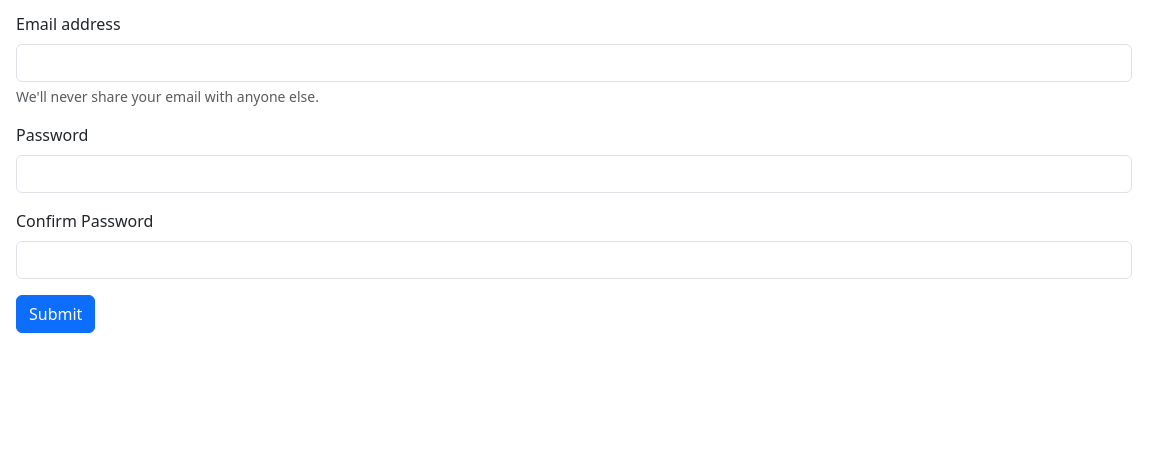
Verifies errors fields of › email
Click the button "Submit": (56, 314) [16,295,95,333]
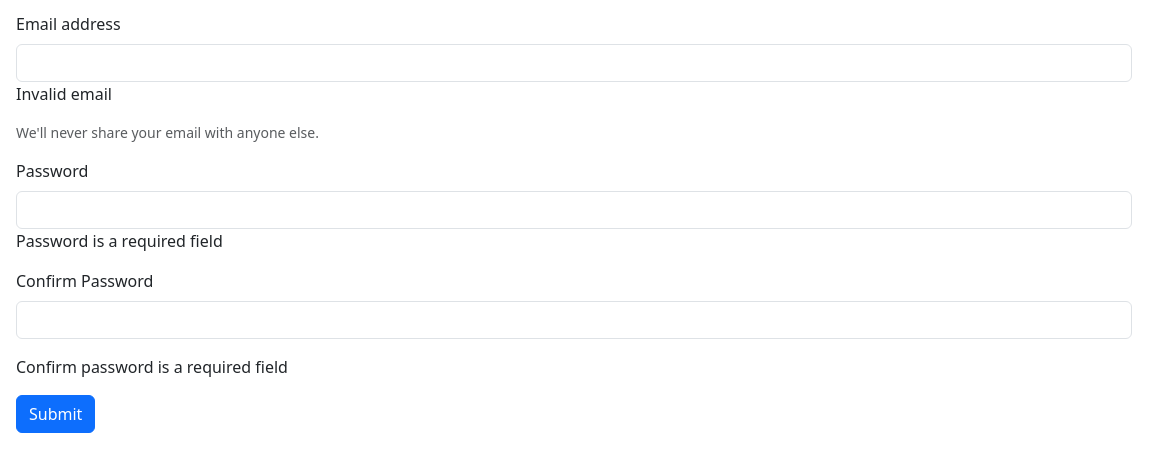
Check: the text "Invalid email" is shown, box [16,83,112,105]
